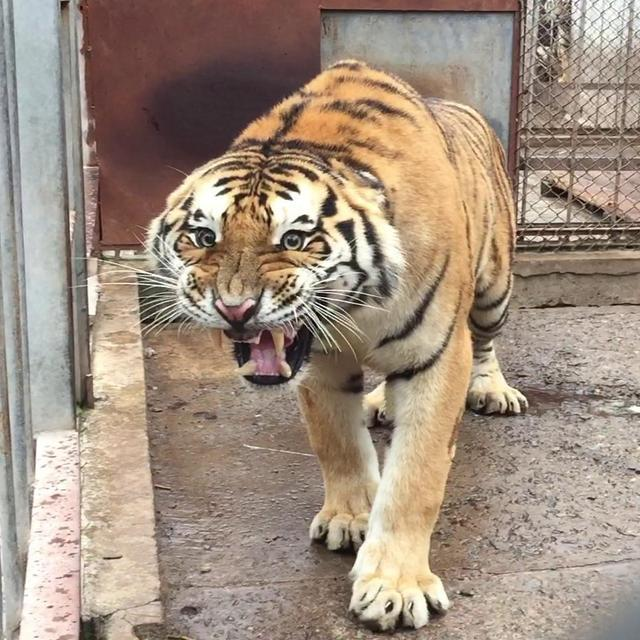tiger: (140, 54, 588, 640)
